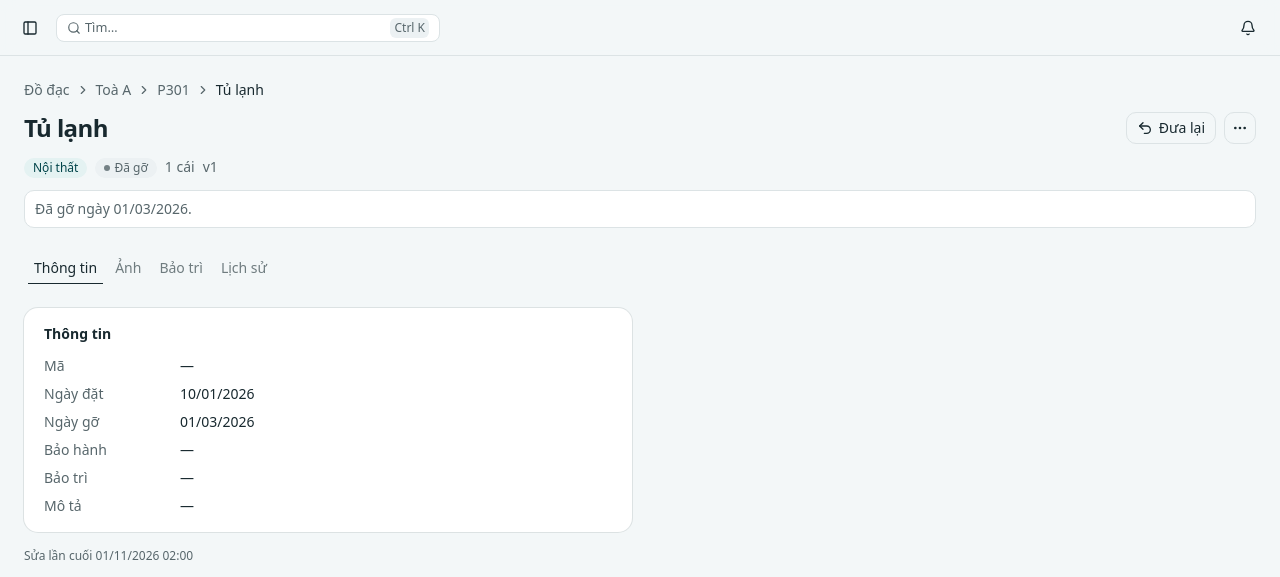
Test: removedItemIsReadOnly
This screenshot has width=1280, height=577.
Check: the text "Đã gỡ ngày 01/03/2026." is shown, box [35,199,192,218]
Check: the button "Đưa lại" is enabled, box [1126,112,1216,144]
Click the button named "Thao tác khác" at (1240,128), box [1224,112,1256,144]
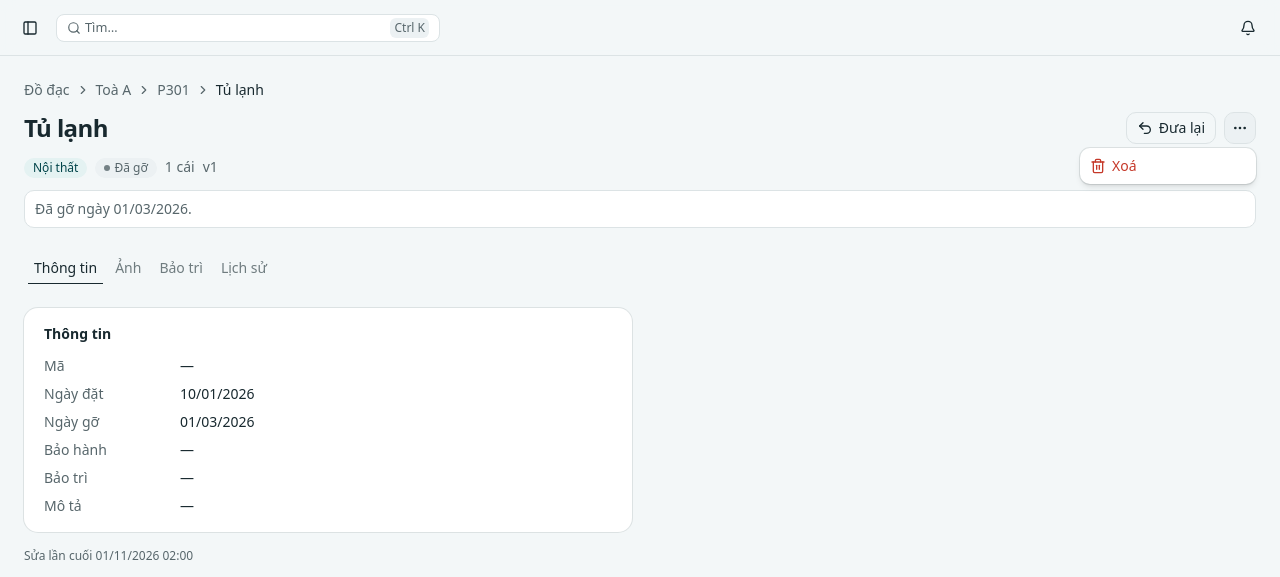
Check: the menu items read "Xoá", in this order, box [1090,156,1136,175]
